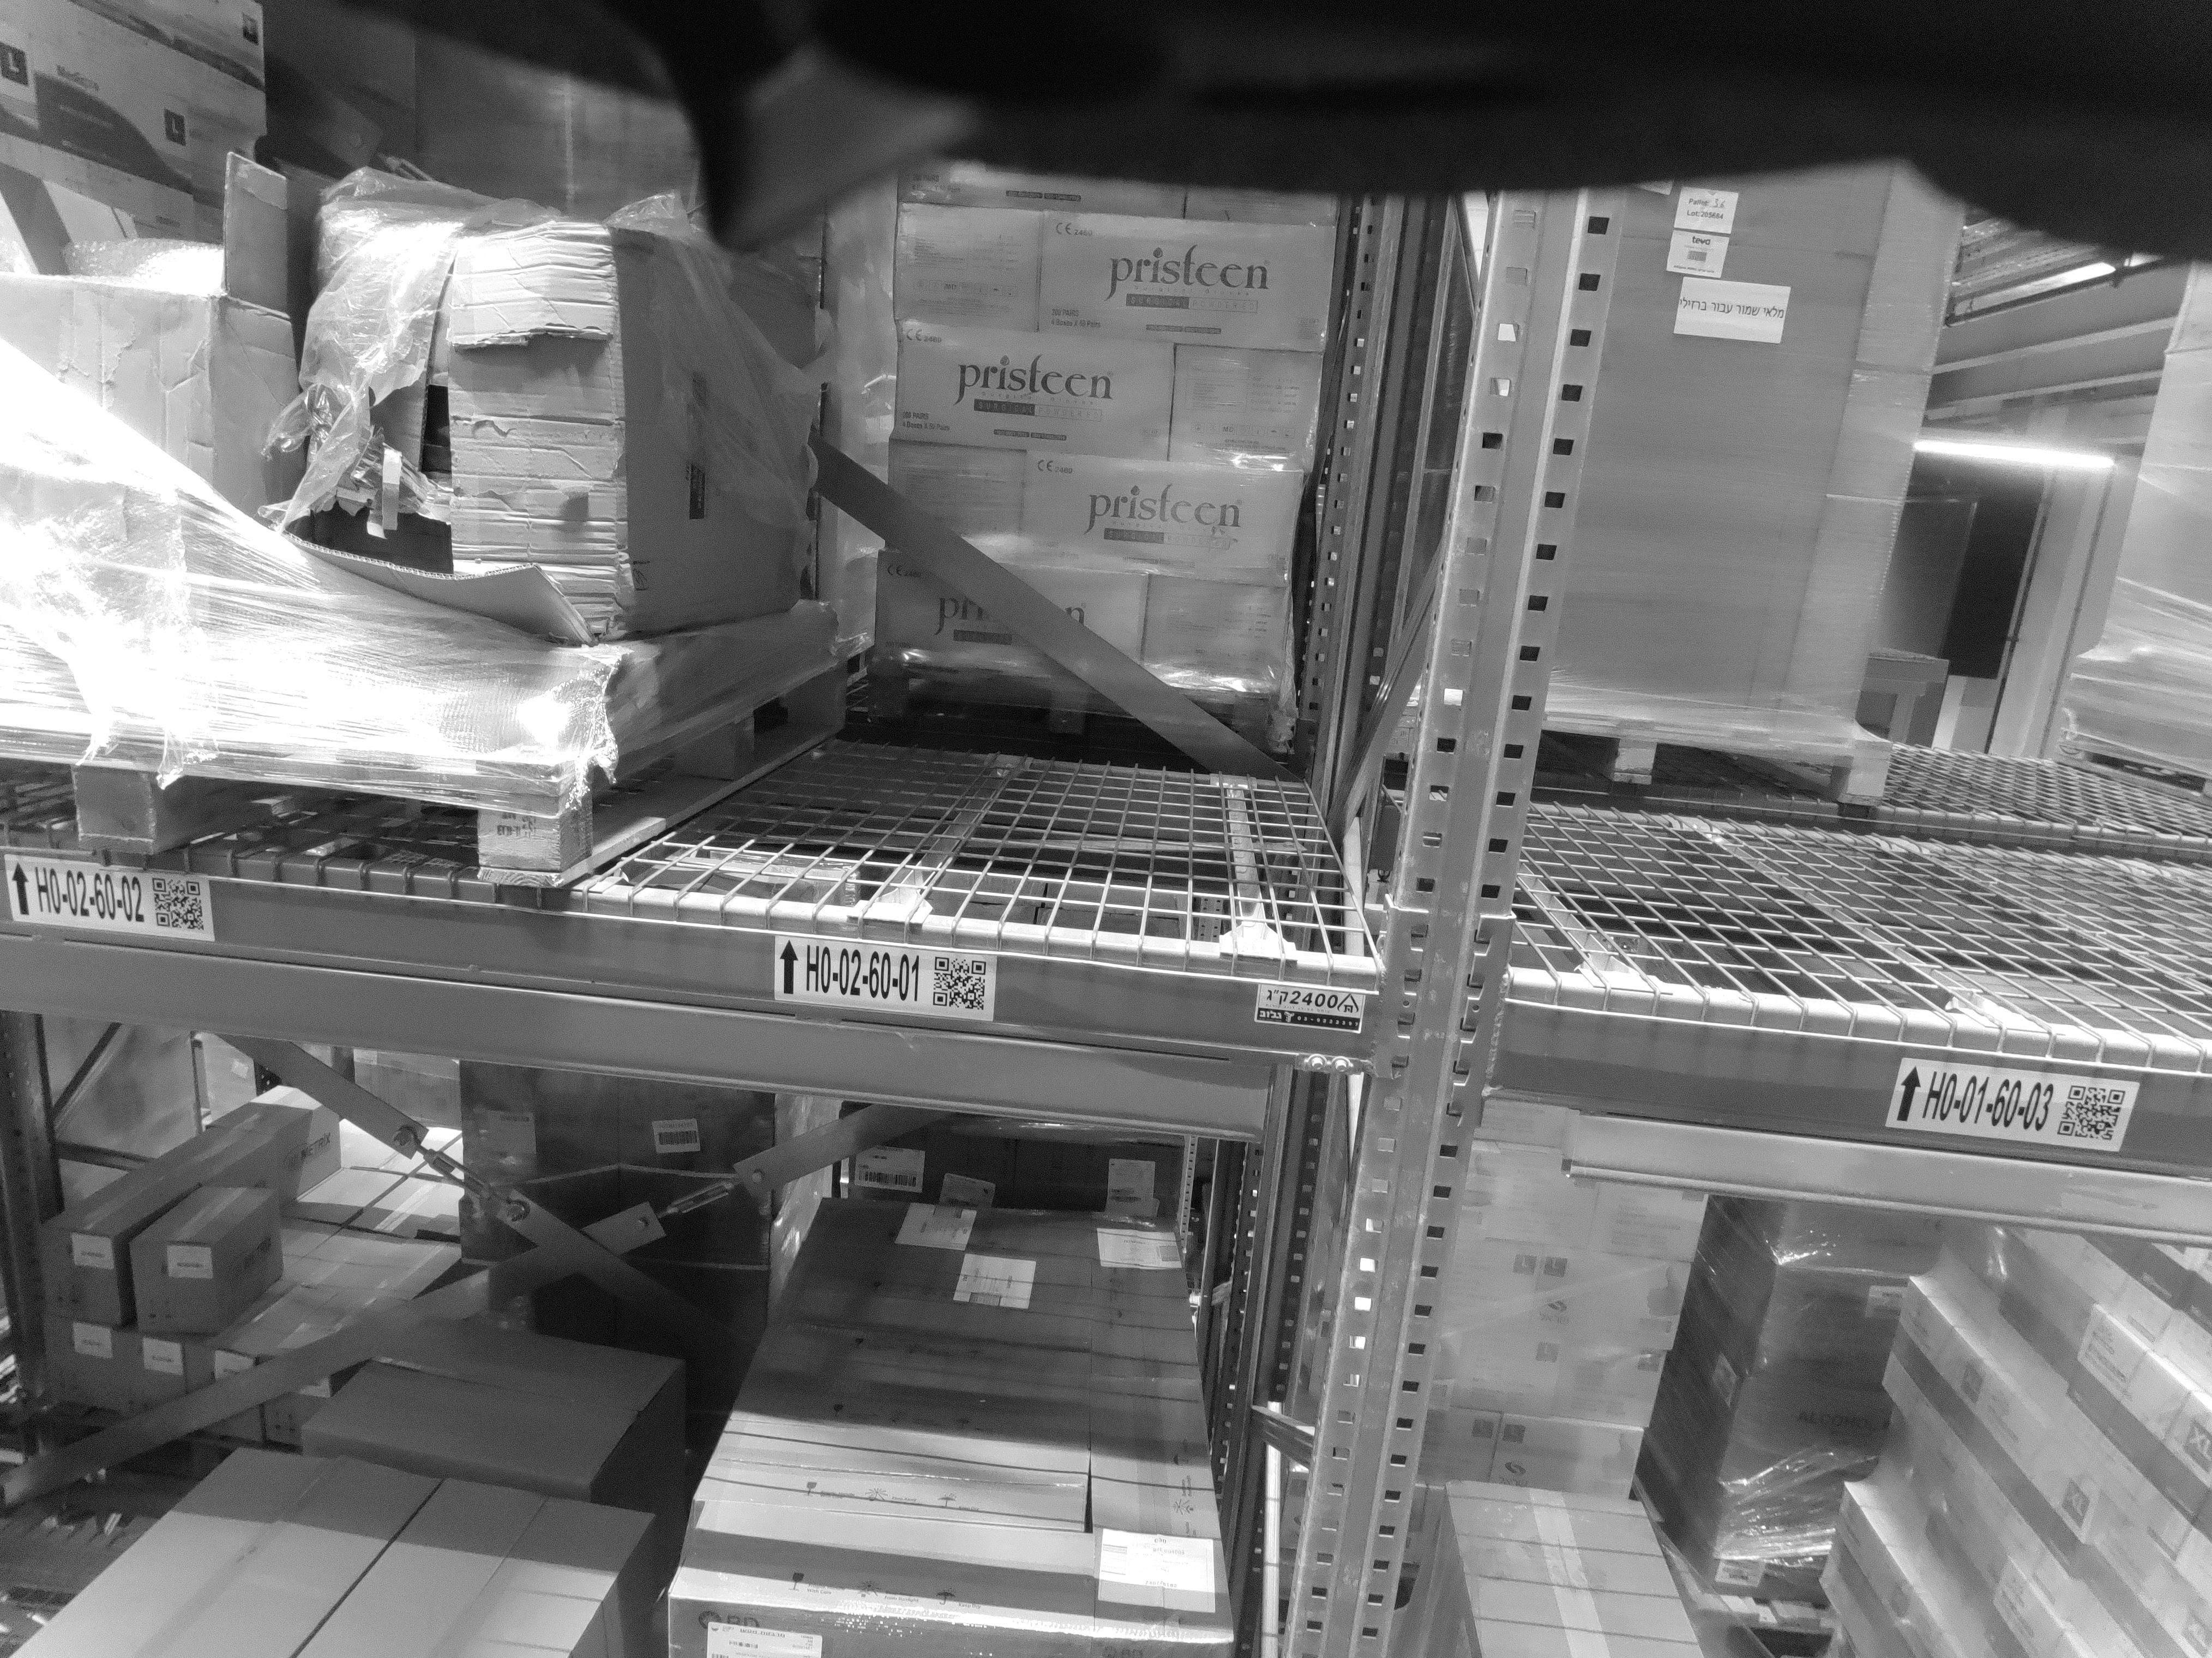empty-shelf: (1663, 204, 2111, 984), (900, 197, 1298, 914)
